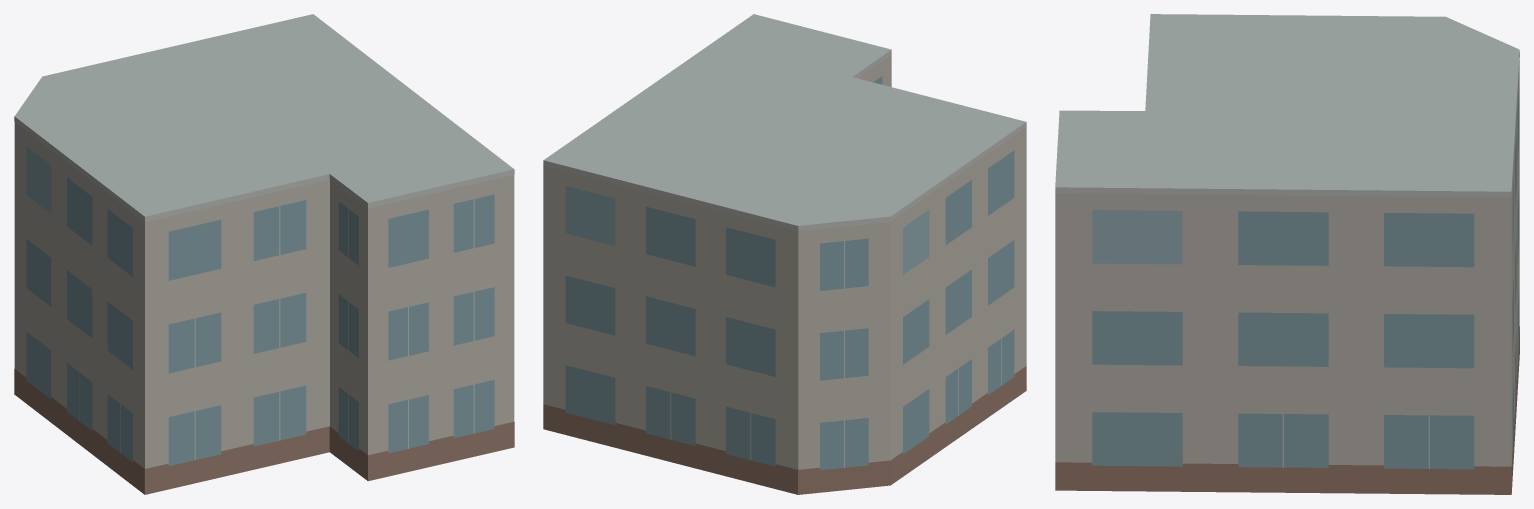
Rendered from survey-upis-32832442.glb.
3 views of the same model, side by side, from view 1: azimuth 30°, elevation 25°; view 2: azimuth 150°, elevation 25°; view 3: azimuth 270°, elevation 25° (orthographic). The views are drawn at different scales.
Visible parts, largest first — view 1: survey-upis-32832442.tmp; view 2: survey-upis-32832442.tmp; view 3: survey-upis-32832442.tmp.
Part boxes in pixels (x1,y1,x2,y2): survey-upis-32832442.tmp: (14,14,514,494); survey-upis-32832442.tmp: (543,14,1026,494); survey-upis-32832442.tmp: (1055,14,1519,494).
Size of the model in its own units: 15.72 by 12.5 by 17.37.
